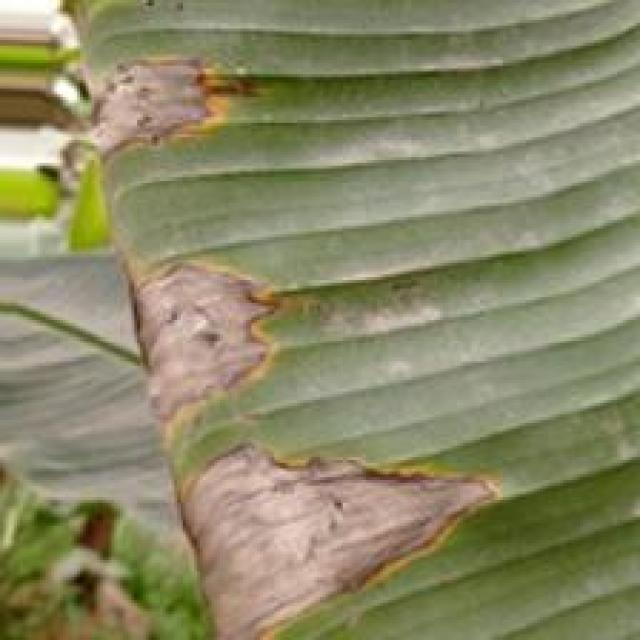Bacterial_spot: (166, 436, 510, 640), (117, 232, 296, 436), (77, 42, 260, 189), (124, 0, 202, 29)
